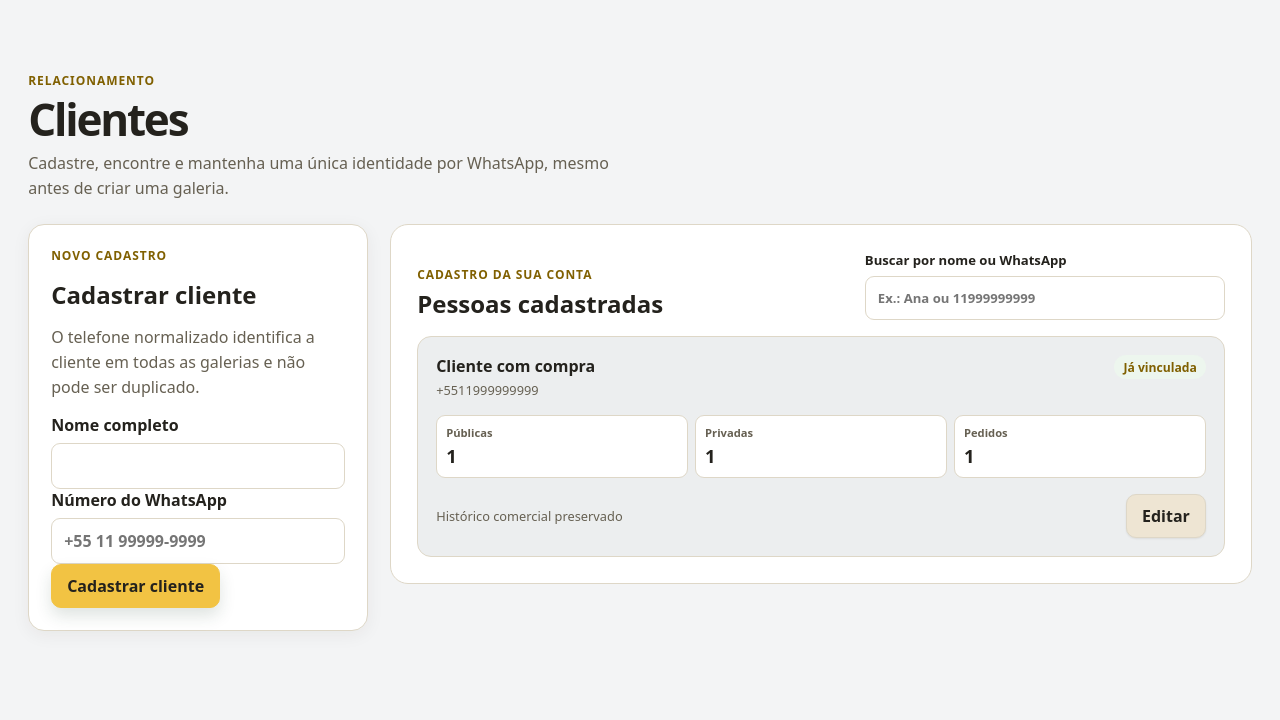
diretório global de clientes › explica o bloqueio comercial sem oferecer exclusão inoperante
Click the button "Editar": x=1166, y=516 left=1126, top=494, right=1206, bottom=538
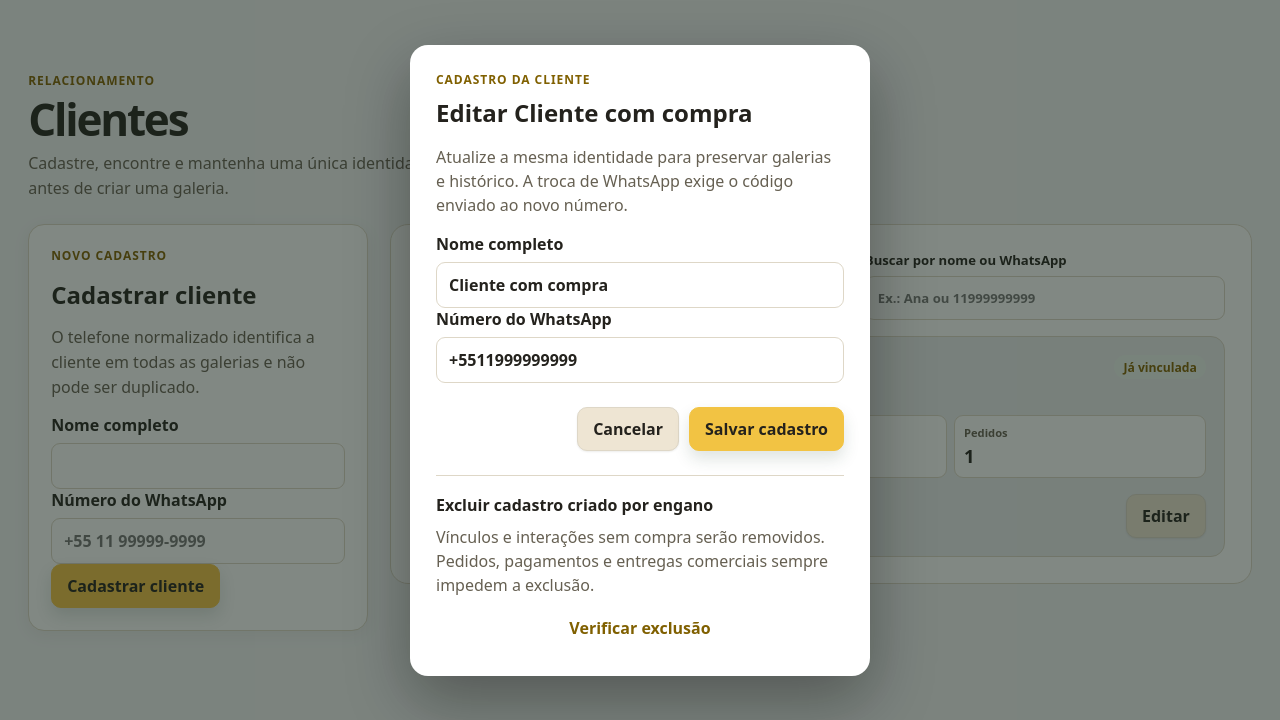
Click the button "Verificar exclusão": x=640, y=628 left=436, top=606, right=844, bottom=650
(page scrolled)
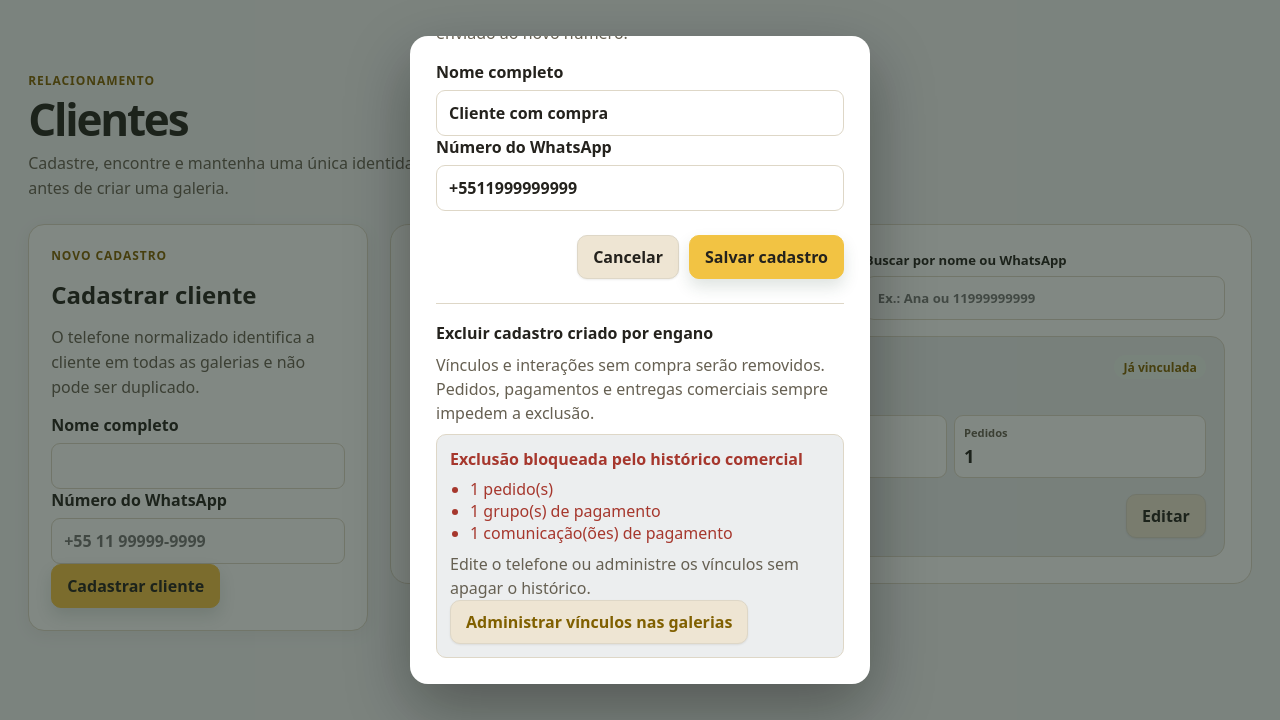
Now the text "Exclusão bloqueada pelo histórico comercial" is shown, box left=450, top=448, right=803, bottom=470
Now the list item "1 grupo(s) de pagamento" is shown, box left=470, top=500, right=661, bottom=522
Now the text "Edite o telefone ou administre os vínculos" is shown, box left=450, top=553, right=799, bottom=599
